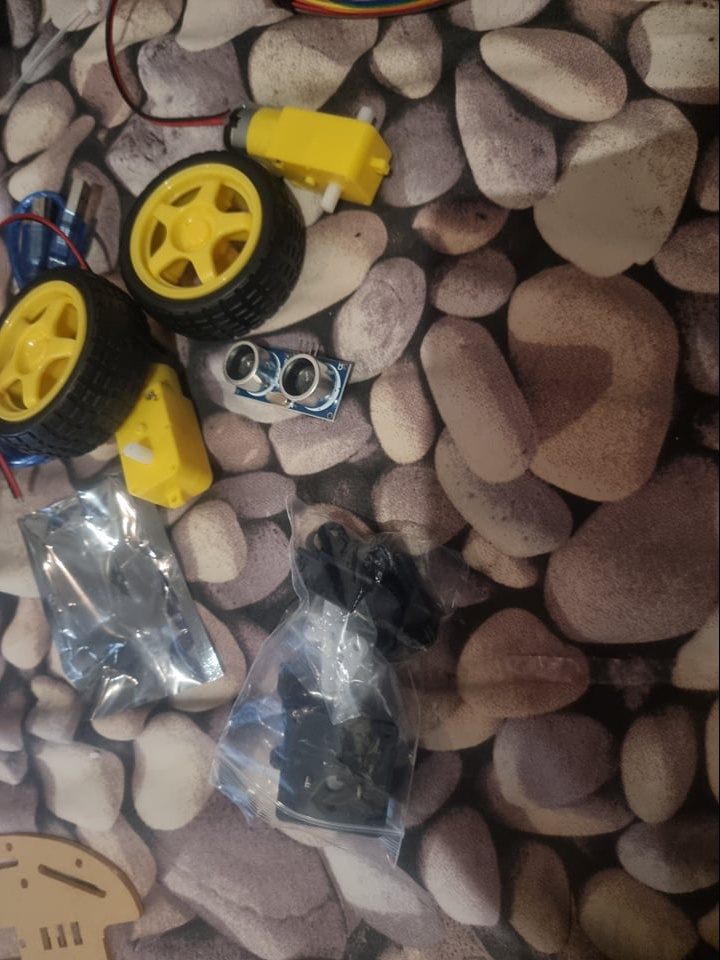SENSOR: (225, 335, 348, 422)
